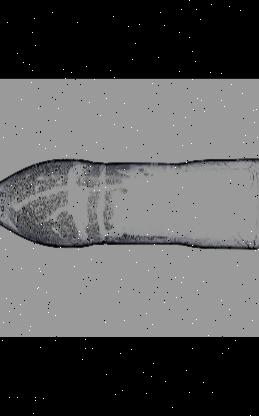Plastic Bottle: (0, 159, 259, 250)
